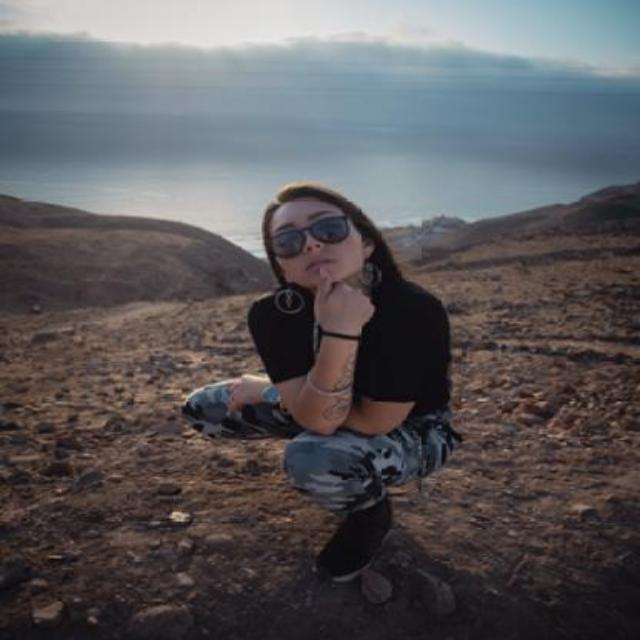glasses: (264, 213, 350, 257)
